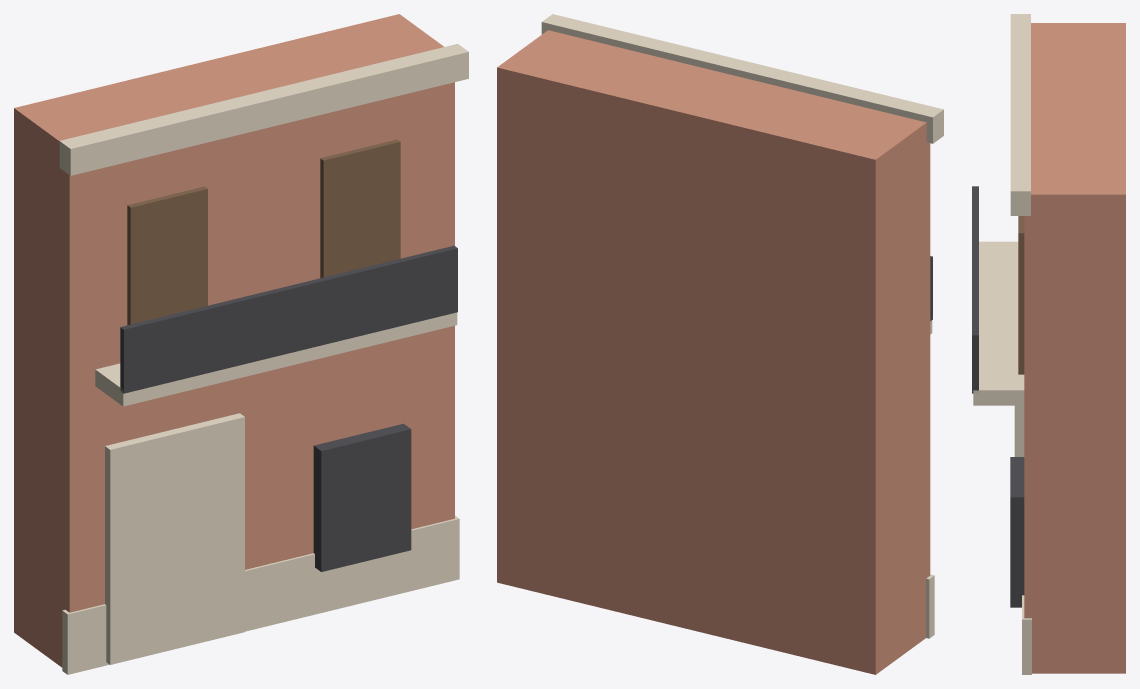
Rendered from SM_Fachada_Colonial_B.fbx.
3 views of the same model, side by side, from view 1: azimuth 30°, elevation 25°; view 2: azimuth 150°, elevation 25°; view 3: azimuth 270°, elevation 25° (orthographic). The views are drawn at different scales.
Parts seen in each view (by area): view 1: SM_Fachada_Colonial_B; view 2: SM_Fachada_Colonial_B; view 3: SM_Fachada_Colonial_B.
Boxes of the visible parts, x1,y1,x2,y2 form: SM_Fachada_Colonial_B: (14, 14, 468, 674); SM_Fachada_Colonial_B: (497, 14, 943, 674); SM_Fachada_Colonial_B: (972, 14, 1125, 674).
Bounding box in the file's own units: 6.2 × 7.9 × 2.27.
